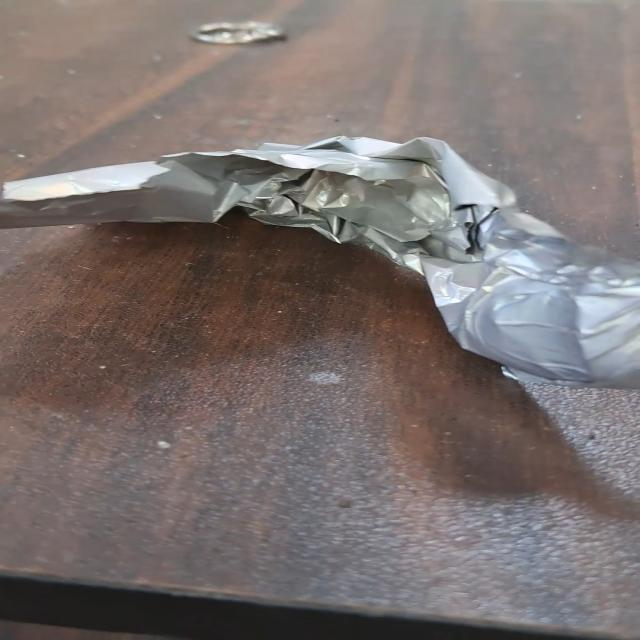Anorganik: (9, 125, 640, 393)
